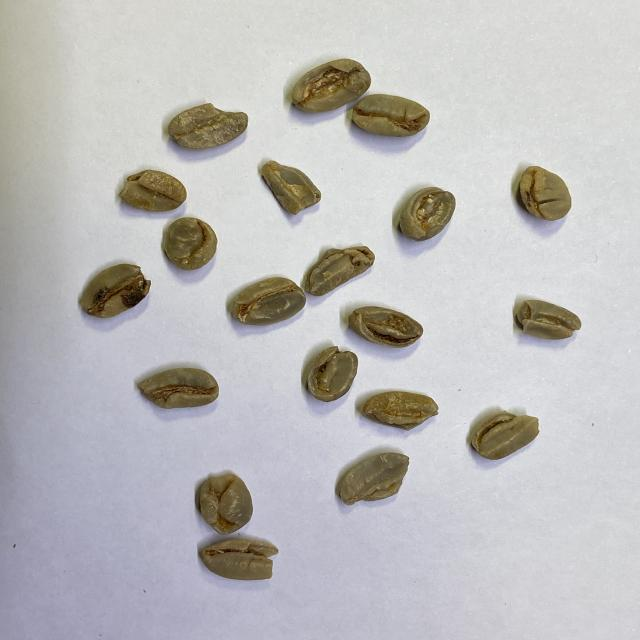bad: (288, 56, 373, 116), (335, 448, 416, 508), (162, 100, 251, 152), (76, 262, 154, 321), (225, 274, 308, 328), (350, 91, 433, 141), (136, 366, 222, 414), (466, 408, 542, 462), (303, 243, 377, 297), (194, 472, 256, 536), (198, 536, 280, 583), (396, 184, 459, 243), (345, 304, 425, 350), (260, 159, 322, 218), (160, 215, 220, 273), (114, 168, 189, 214), (516, 164, 575, 222), (361, 389, 441, 431), (302, 344, 358, 402), (514, 297, 584, 343)
